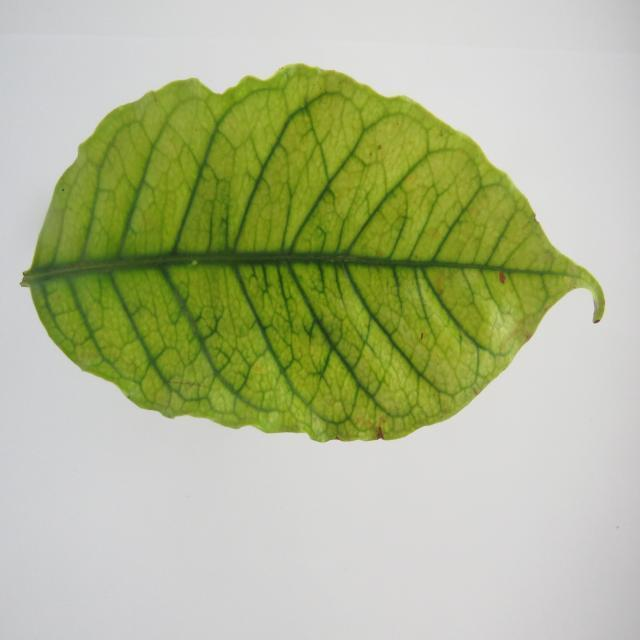DeficienciaNutricional-Hierro: (20, 69, 599, 442)
